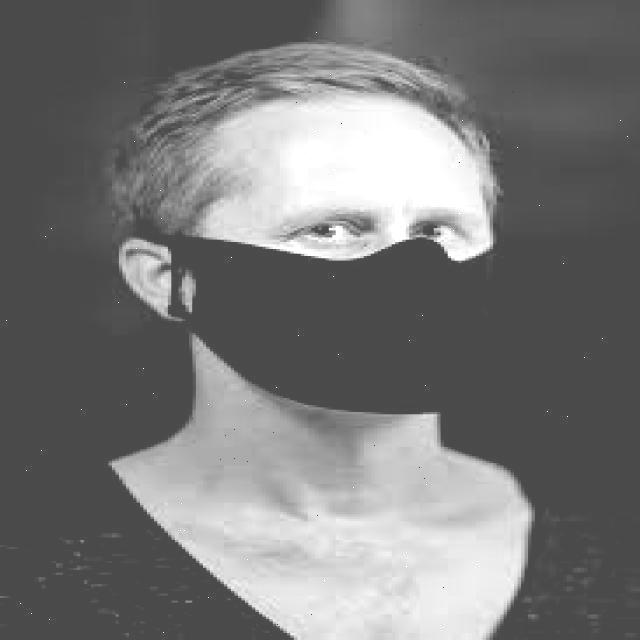fake: (167, 233, 502, 413)
real: (199, 90, 500, 429)
